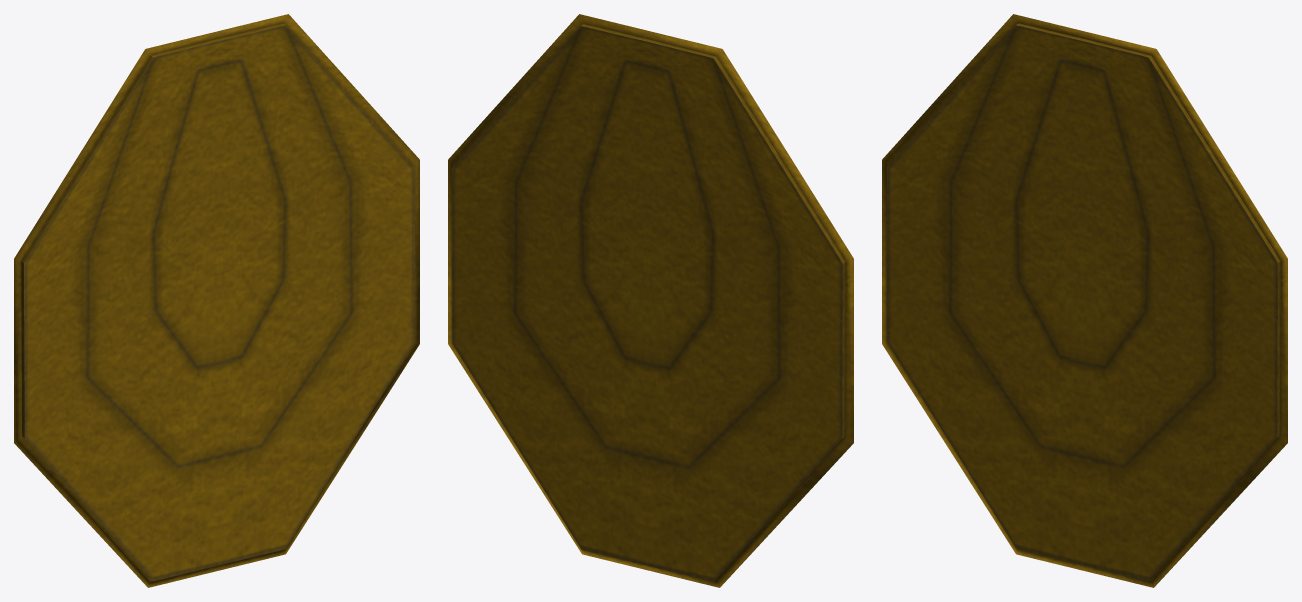
The model's file is IPSC 纸靶黄色.FBX.
3 views of the same model, side by side, from view 1: azimuth 30°, elevation 25°; view 2: azimuth 150°, elevation 25°; view 3: azimuth 330°, elevation 25° (orthographic).
Parts seen in each view (by area): view 1: Object74; view 2: Object74; view 3: Object74.
Boxes of the visible parts, x1,y1,x2,y2 form: Object74: (14,14,419,587); Object74: (448,14,853,587); Object74: (882,14,1287,587).
Bounding box in the file's own units: 10.38 × 0.2785 × 13.18.
